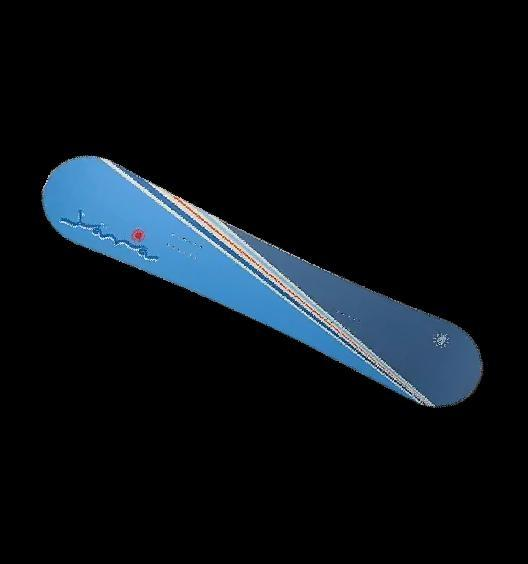Snowboard: (40, 153, 484, 409)
